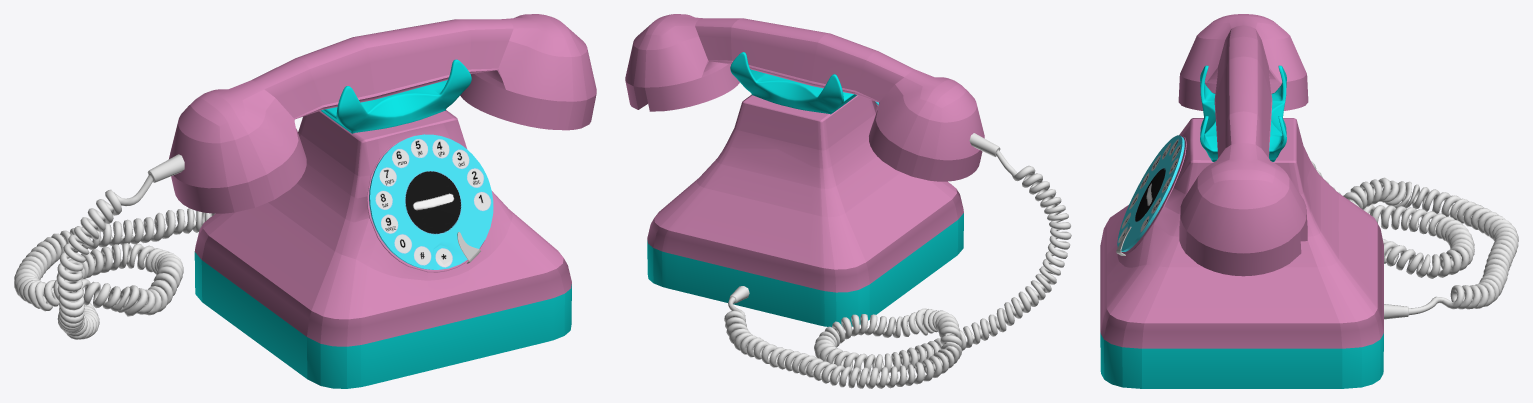
Rendered from level18.fbx.
The picture shows the model from 3 angles, left to right: view 1: azimuth 30°, elevation 25°; view 2: azimuth 150°, elevation 25°; view 3: azimuth 270°, elevation 25°; orthographic projection. The views are drawn at different scales.
Visible parts, largest first — view 1: polySurface25, polySurface31, polySurface23, polySurface24, polySurface26; view 2: polySurface25, polySurface31, polySurface23, polySurface26; view 3: polySurface25, polySurface31, polySurface23, polySurface24, polySurface26.
Part boxes in pixels (x1,y1,x2,y2): polySurface25: [194, 110, 571, 388]; polySurface31: [168, 14, 596, 213]; polySurface23: [14, 154, 215, 339]; polySurface24: [369, 134, 493, 269]; polySurface26: [321, 59, 471, 133]; polySurface25: [647, 94, 963, 327]; polySurface31: [625, 14, 984, 181]; polySurface23: [724, 133, 1071, 388]; polySurface26: [730, 52, 856, 114]; polySurface25: [1100, 118, 1383, 388]; polySurface31: [1178, 14, 1308, 276]; polySurface23: [1311, 161, 1518, 319]; polySurface24: [1117, 135, 1184, 251]; polySurface26: [1200, 65, 1286, 161].
Bounding box in the file's own units: 41.24 × 21.21 × 29.91.
